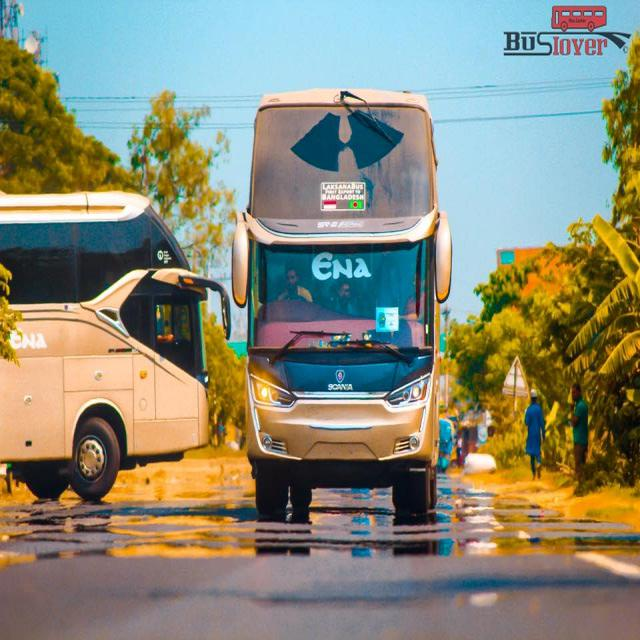bus: (230, 88, 454, 512), (1, 189, 233, 505)
